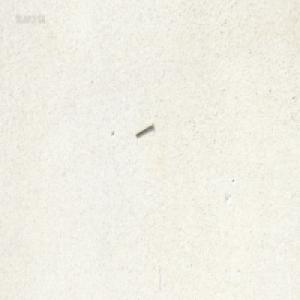Bolt: (134, 122, 153, 137)
